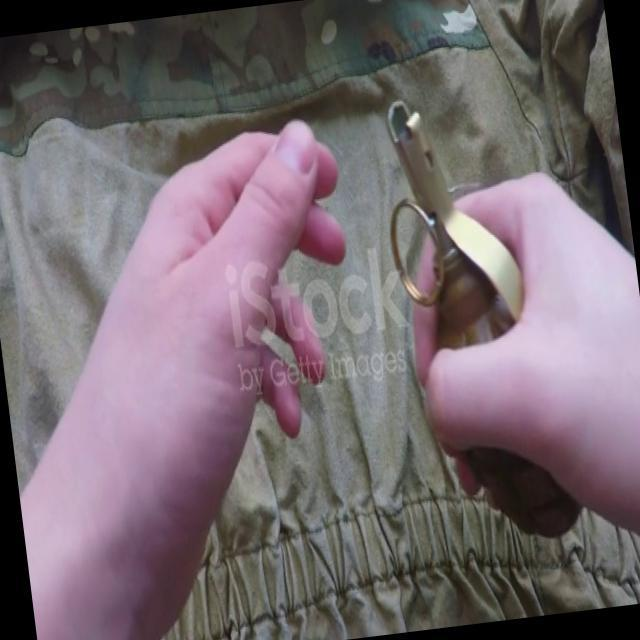grenade: (373, 85, 593, 560)
